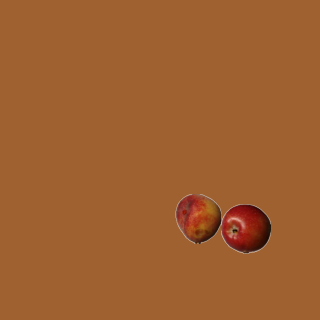Apple Braeburn: (220, 203, 270, 253)
Peach: (173, 193, 223, 243)
